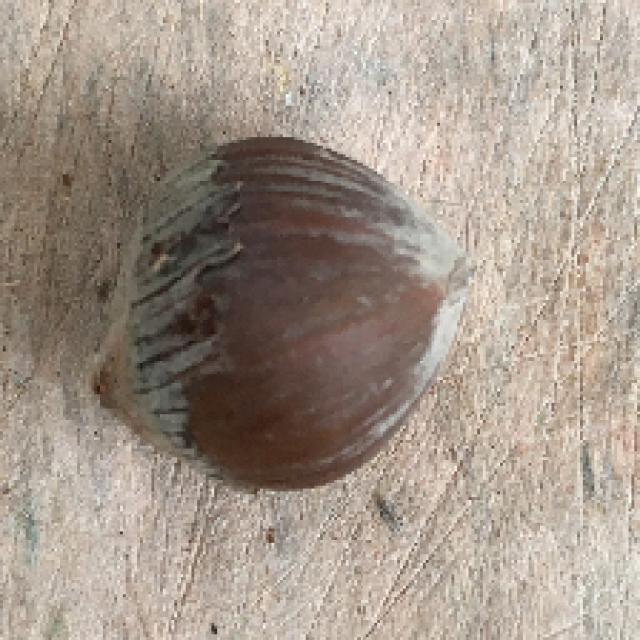damagedHazelnut: (87, 131, 482, 501)
